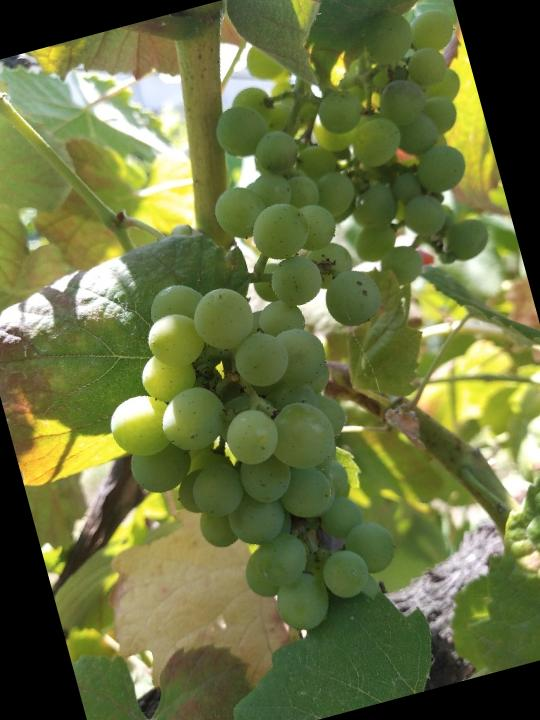grape: (77, 245, 411, 668), (185, 56, 438, 358)
